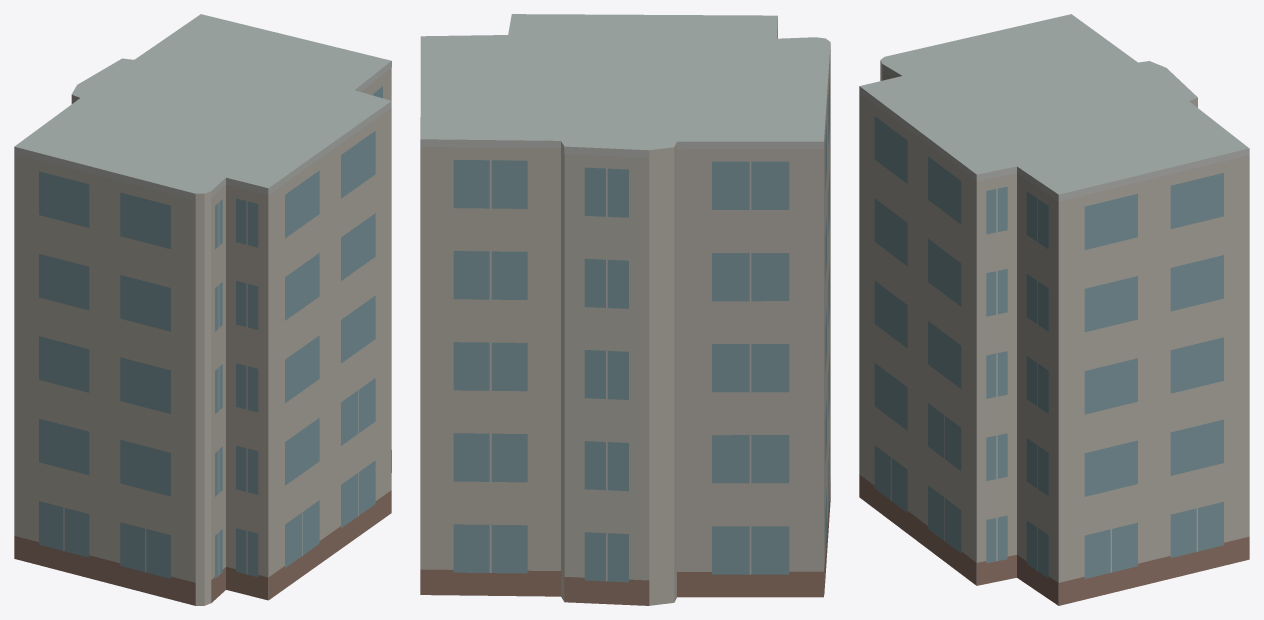
File: survey-upis-32464694.glb
3 views of the same model, side by side, from view 1: azimuth 30°, elevation 25°; view 2: azimuth 150°, elevation 25°; view 3: azimuth 270°, elevation 25° (orthographic). The views are drawn at different scales.
Visible parts, largest first — view 1: survey-upis-32464694.tmp; view 2: survey-upis-32464694.tmp; view 3: survey-upis-32464694.tmp.
Boxes of the visible parts, bbox=[...] form: survey-upis-32464694.tmp: bbox=[14, 14, 391, 605]; survey-upis-32464694.tmp: bbox=[420, 14, 830, 605]; survey-upis-32464694.tmp: bbox=[859, 14, 1249, 605].
Size of the model in its own units: 13.86 by 14.7 by 12.65.
